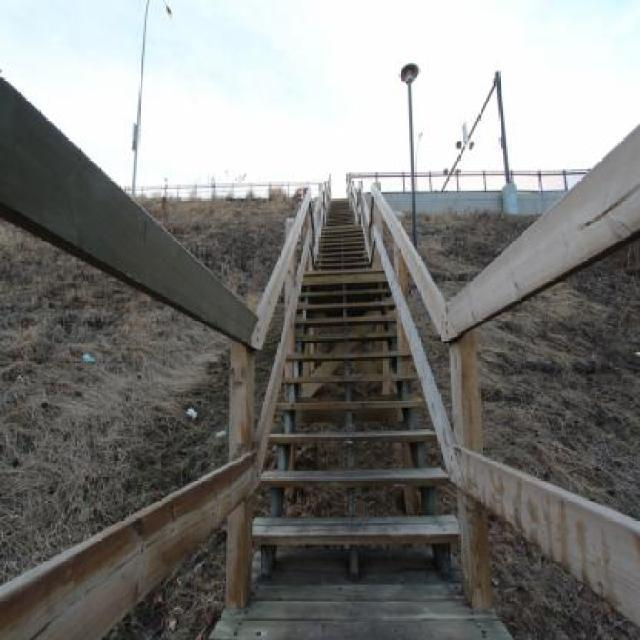stair: (250, 178, 462, 584)
